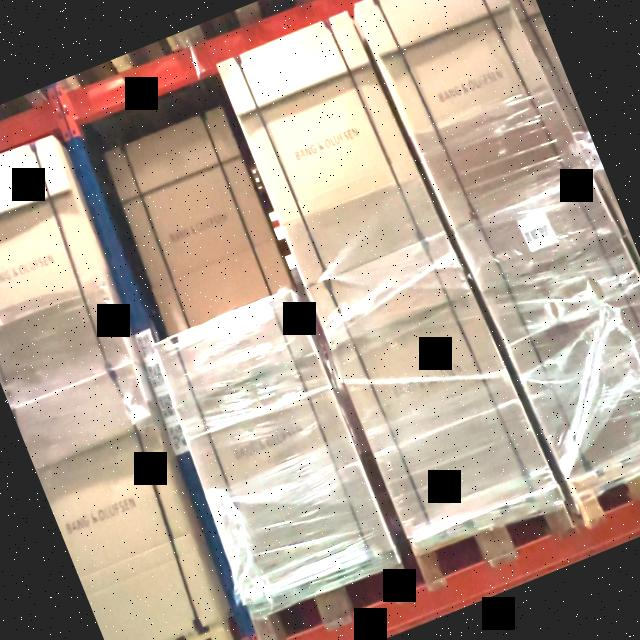box: (307, 232, 557, 538), (153, 290, 396, 596), (217, 11, 444, 286), (457, 175, 640, 476), (354, 0, 591, 231), (104, 105, 294, 335)
